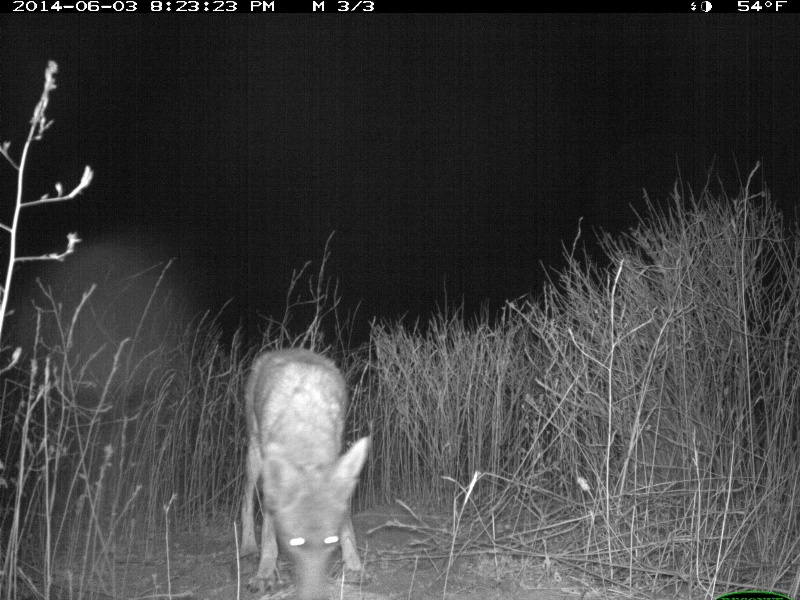coyote: (236, 349, 370, 593)
